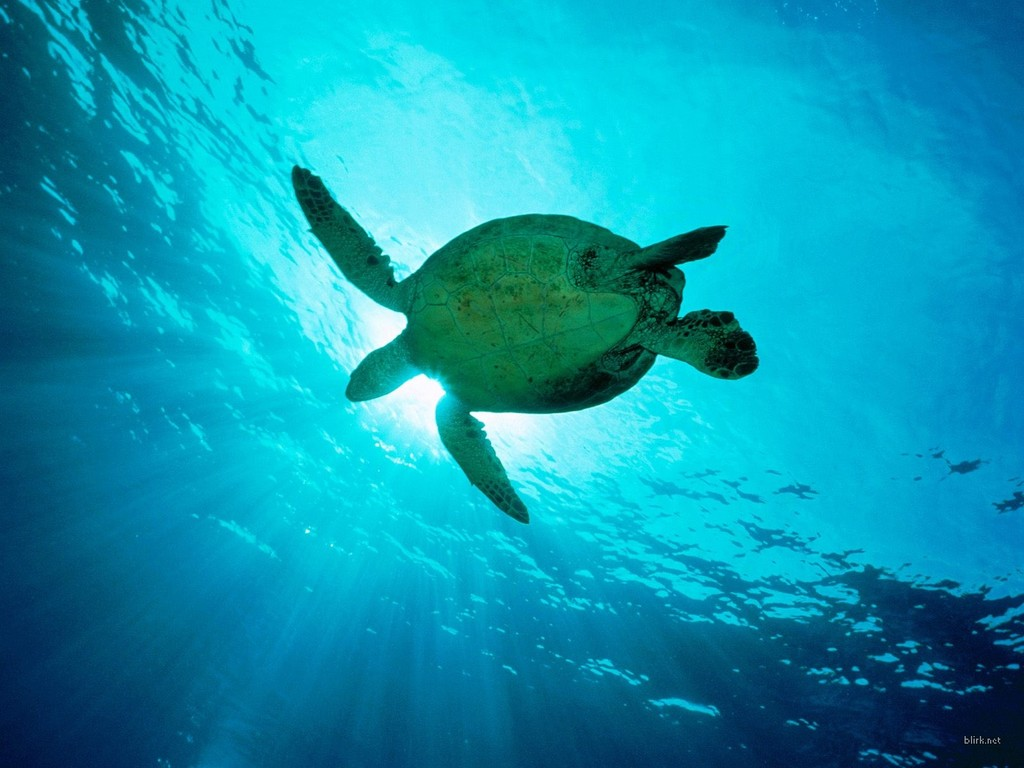Sea turtles: (274, 163, 762, 524)
